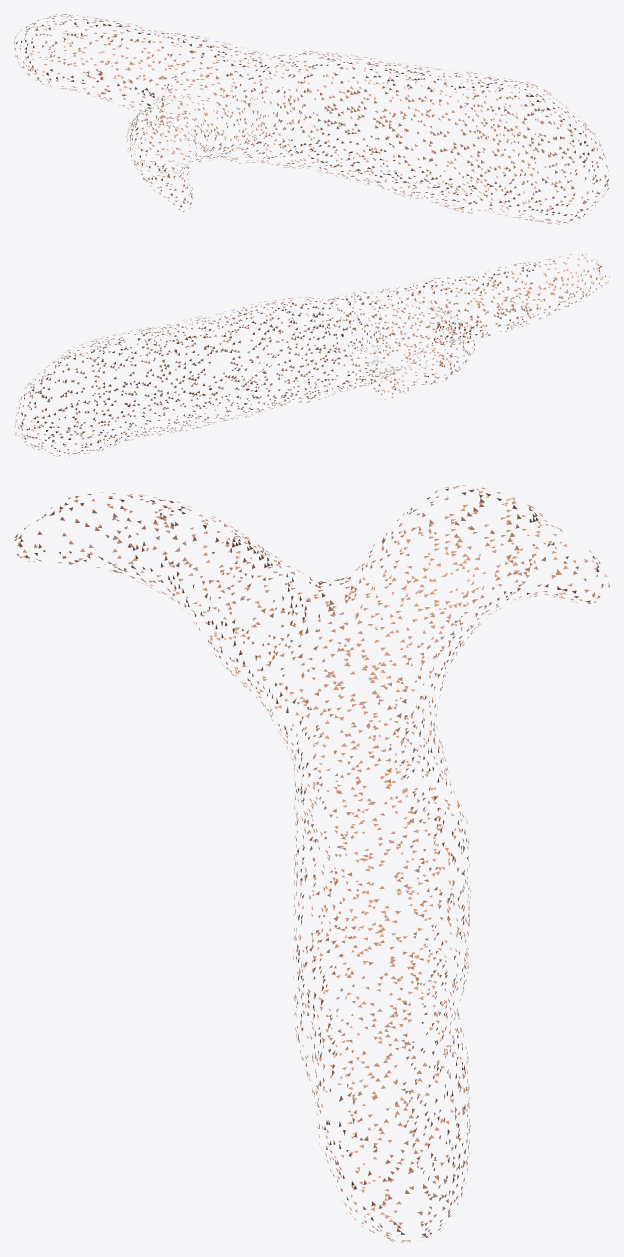
Rendered from morph_004.glb.
3 renders of one model, top to bottom at view 1: azimuth 30°, elevation 25°; view 2: azimuth 150°, elevation 25°; view 3: azimuth 270°, elevation 25°, orthographic. The views are drawn at different scales.
Size of the model in its own units: 125 by 61.21 by 80.69.
